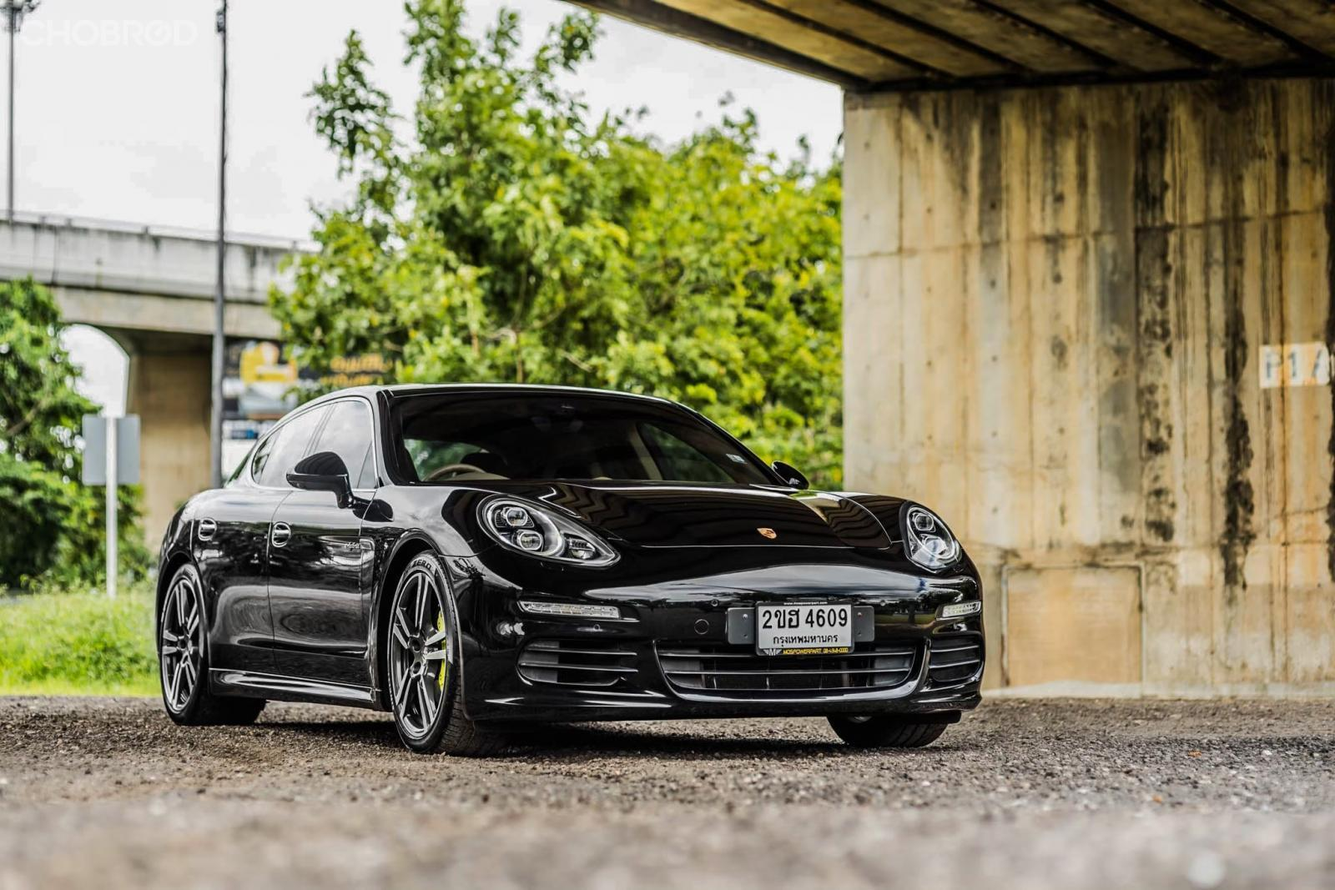license-plate: (747, 595, 863, 664)
